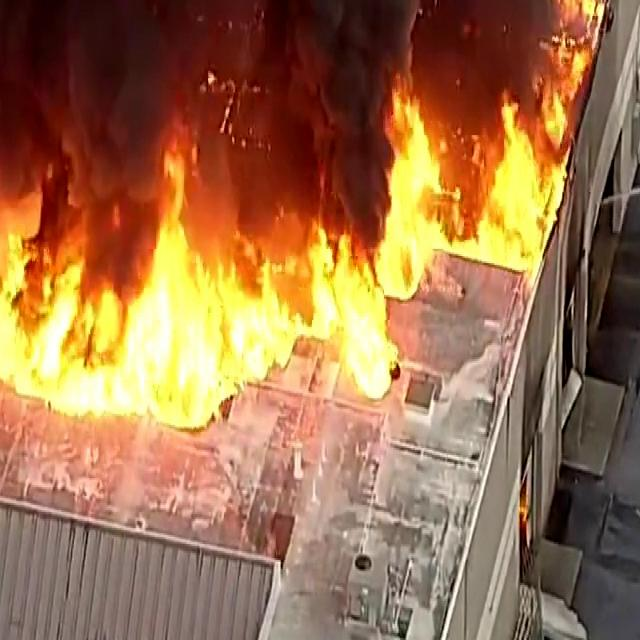fire: (182, 137, 432, 377), (0, 169, 227, 414), (436, 146, 558, 259)
